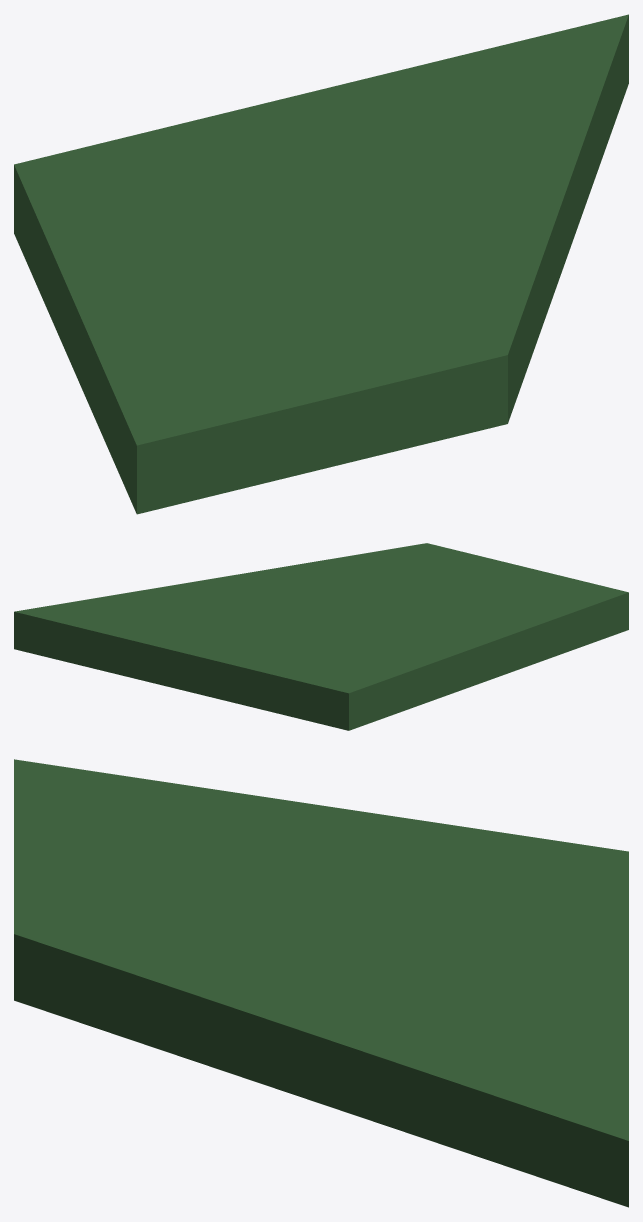
Rendered from x_proval_00_162_1_rmstrd.fbx.
3 views of the same model, one above another, from view 1: azimuth 30°, elevation 25°; view 2: azimuth 150°, elevation 25°; view 3: azimuth 270°, elevation 25° (orthographic). The views are drawn at different scales.
Parts seen in each view (by area): view 1: x_proval_00_162_1_rmstrd1; view 2: x_proval_00_162_1_rmstrd1; view 3: x_proval_00_162_1_rmstrd1.
Part boxes in pixels (x1,y1,x2,y2): x_proval_00_162_1_rmstrd1: (14, 14, 628, 514); x_proval_00_162_1_rmstrd1: (14, 543, 628, 730); x_proval_00_162_1_rmstrd1: (14, 759, 628, 1207).
Bounding box in the file's own units: 2.46 × 0.2 × 1.68.
